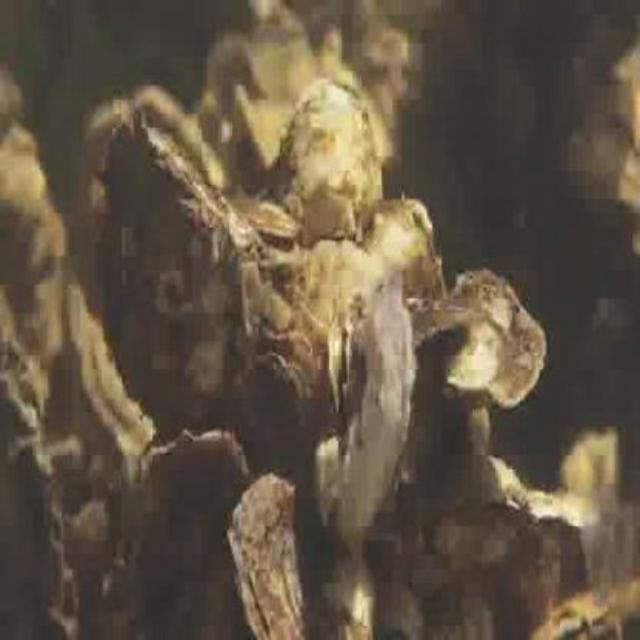Oyster-Closed: (103, 120, 249, 419), (0, 342, 80, 638), (336, 289, 416, 554), (282, 79, 382, 246), (88, 87, 230, 193), (230, 475, 322, 638), (140, 429, 249, 560), (441, 275, 545, 411), (362, 199, 436, 296), (304, 243, 385, 323), (251, 12, 321, 104), (535, 581, 638, 638), (442, 455, 527, 515), (253, 352, 309, 434), (243, 97, 295, 185), (440, 519, 514, 569), (411, 296, 483, 346), (208, 35, 254, 112), (227, 198, 297, 241), (527, 492, 589, 531)
Oyster-Open: (326, 315, 360, 414)
